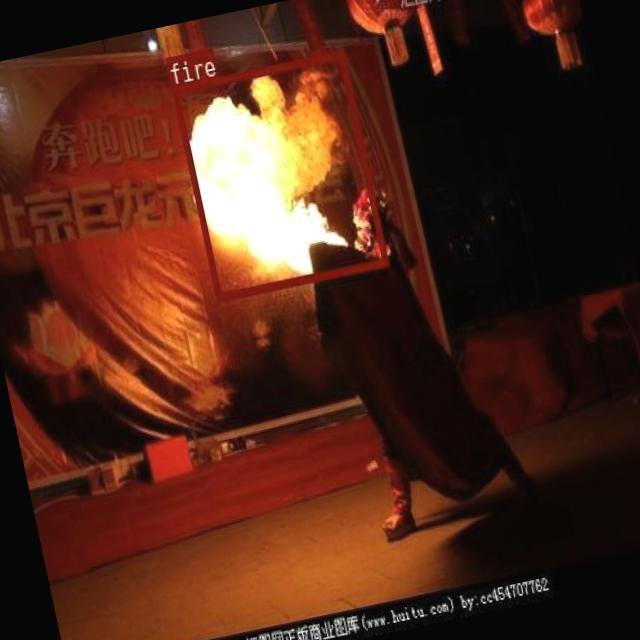fire: (170, 48, 386, 300)
